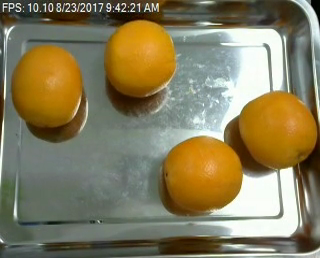Orange: (238, 91, 318, 171), (10, 44, 83, 127), (164, 135, 242, 212), (105, 19, 176, 97)
